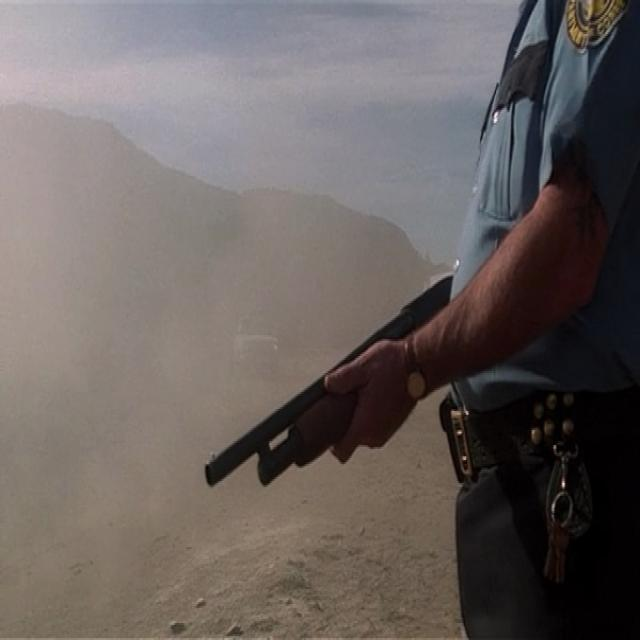rifle: (198, 266, 459, 518)
